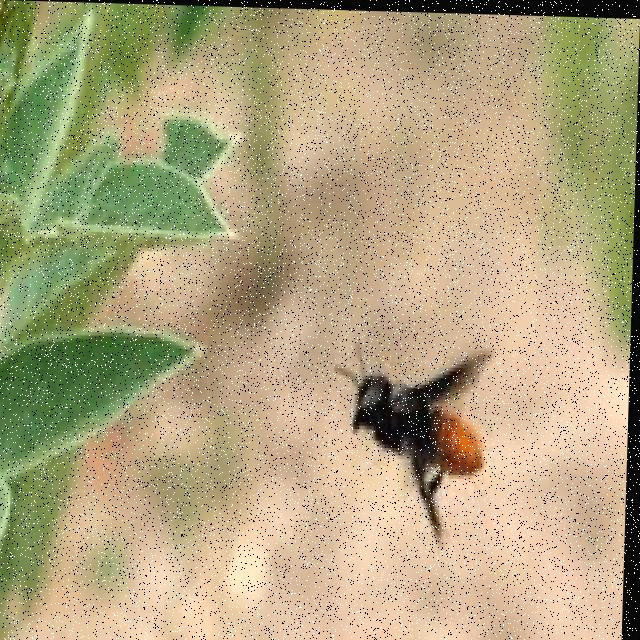Meliponula: (327, 327, 505, 551)
